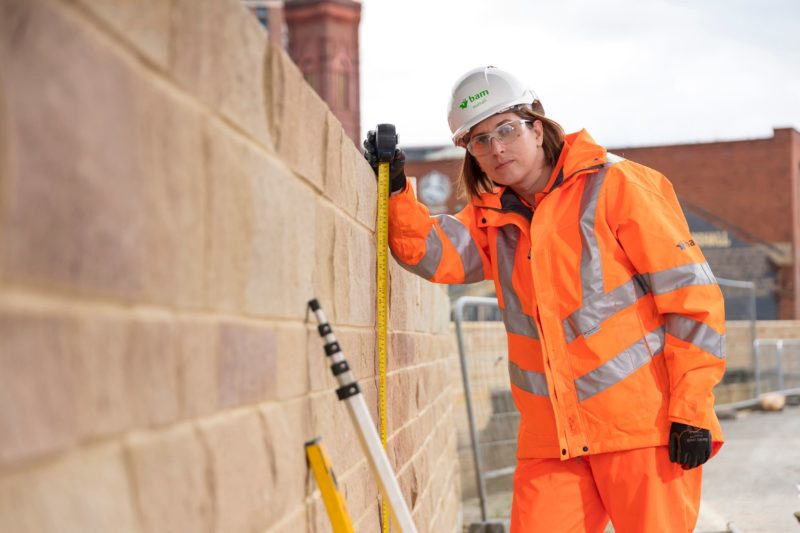Hard Hat: (441, 63, 541, 141)
High Viz: (501, 155, 662, 414)
